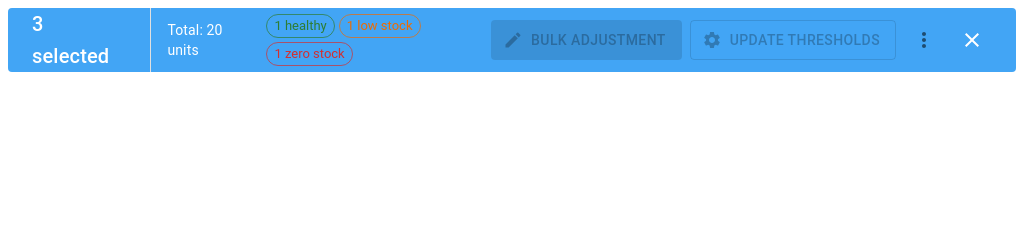
Scenario: BulkActionsToolbar › Actions Menu › opens and closes actions menu
The image size is (1024, 231).
Click the 3rd button at (924, 40), box [904,20,944,60]
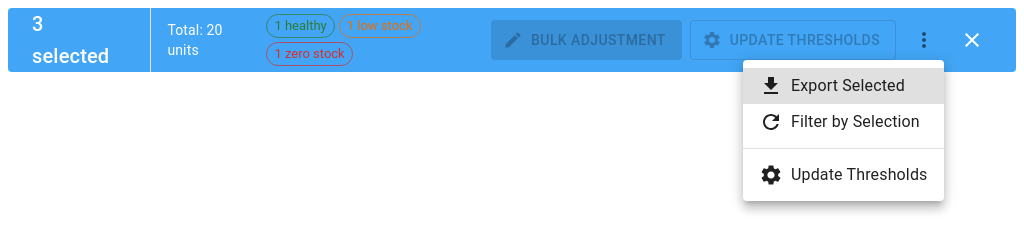
Expected: the menu item "Filter by Selection" is shown, [759,110,920,134]
Expected: the menu item "Export Selected" is shown, [743,68,944,104]
